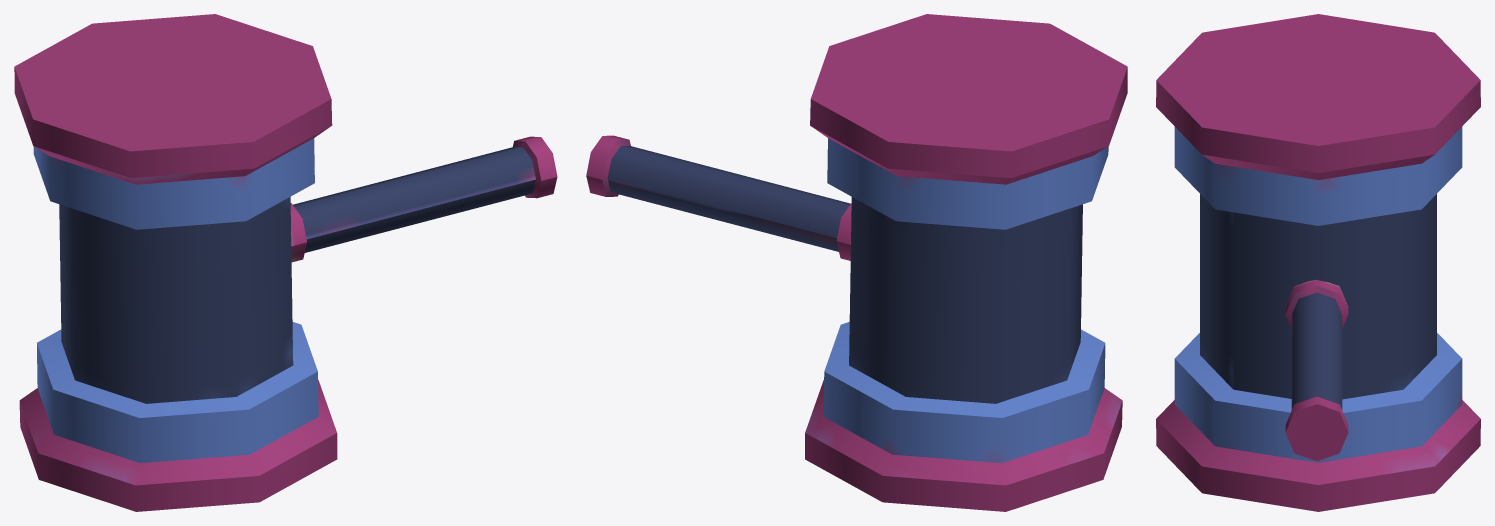
Rendered from hammer_test (1).fbx.
3 renders of one model, left to right at view 1: azimuth 30°, elevation 25°; view 2: azimuth 150°, elevation 25°; view 3: azimuth 270°, elevation 25°, orthographic.
Visible parts, largest first — view 1: BézierCurve.002; view 2: BézierCurve.002; view 3: BézierCurve.002.
Part boxes in pixels (left/top/right/bottom): BézierCurve.002: left=14, top=14, right=557, bottom=511; BézierCurve.002: left=586, top=14, right=1127, bottom=511; BézierCurve.002: left=1156, top=14, right=1480, bottom=511.
Size of the model in its own units: 39.05 by 26.91 by 21.53.
